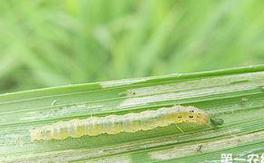pest: (31, 106, 208, 142)
